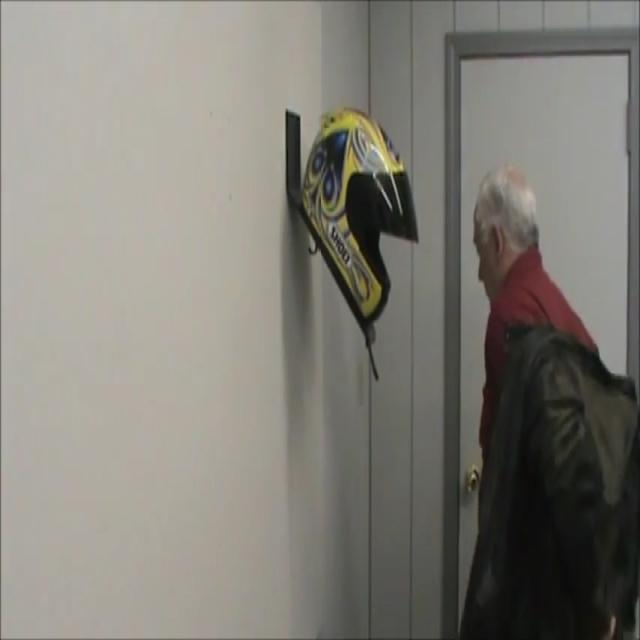Jacket_Wearer: (462, 311, 640, 640)
Person: (459, 171, 640, 640)
